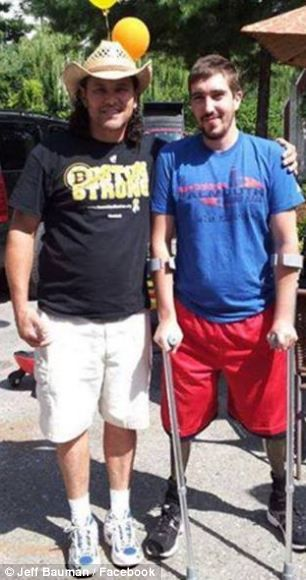Person: (15, 46, 158, 568), (164, 49, 294, 519)
